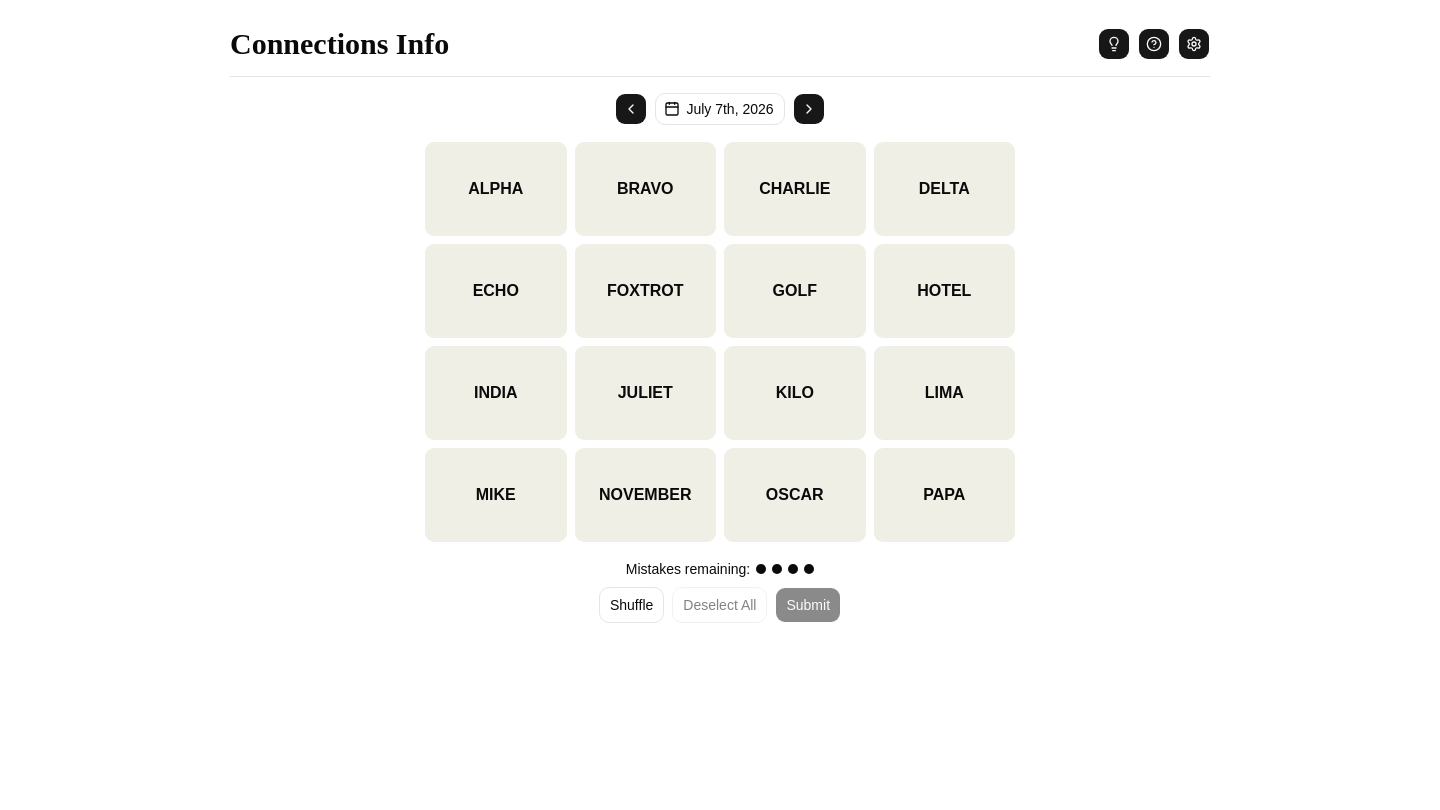
Test case: Connections app › persists source settings and updates word links
Expected: the text "ALPHA" is shown, x1=468 y1=179 x2=523 y2=199
Click the button "ALPHA".
click(496, 189)  # box x1=424 y1=141 x2=568 y2=237
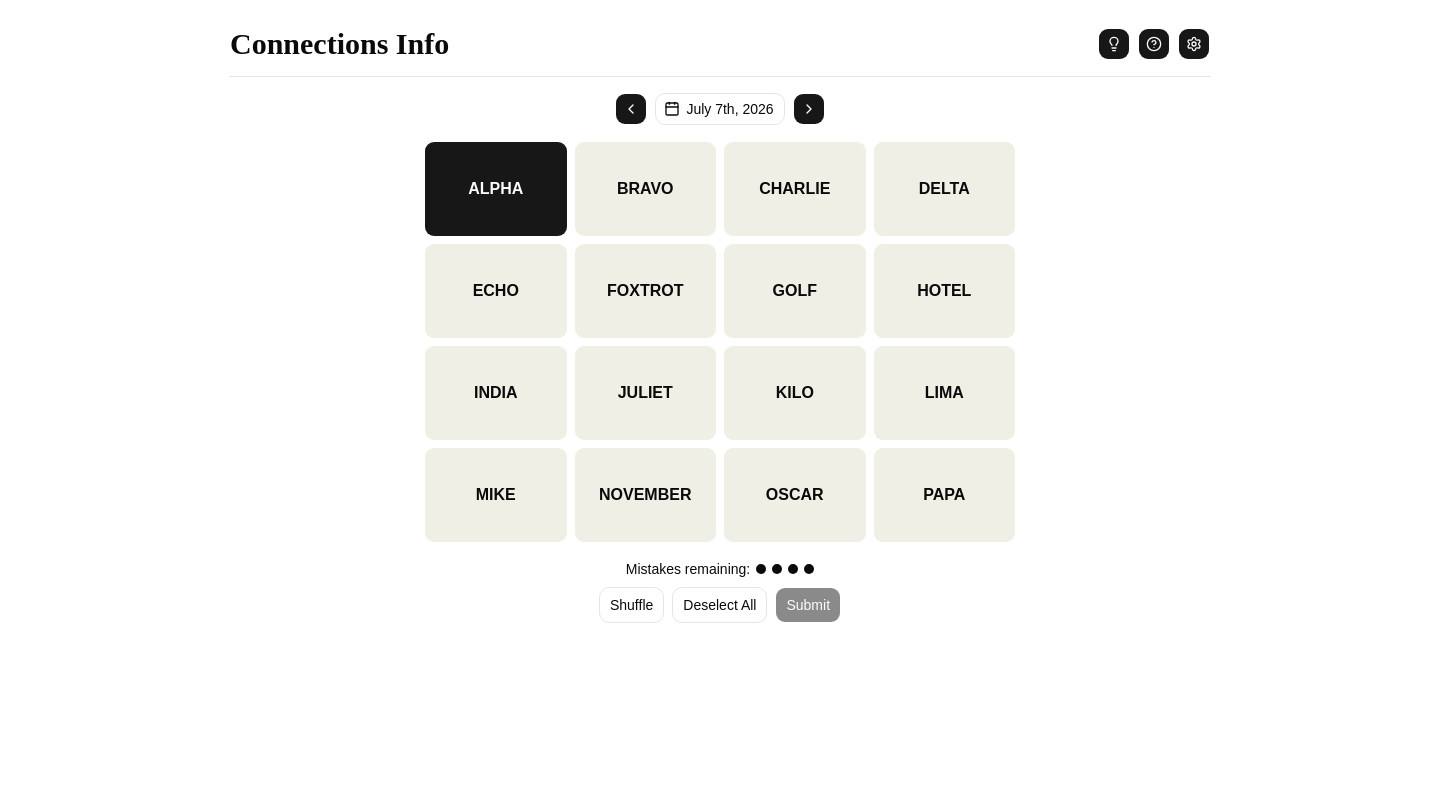
Click the button named "Open settings".
click(1194, 44)  # box x1=1178 y1=28 x2=1210 y2=60
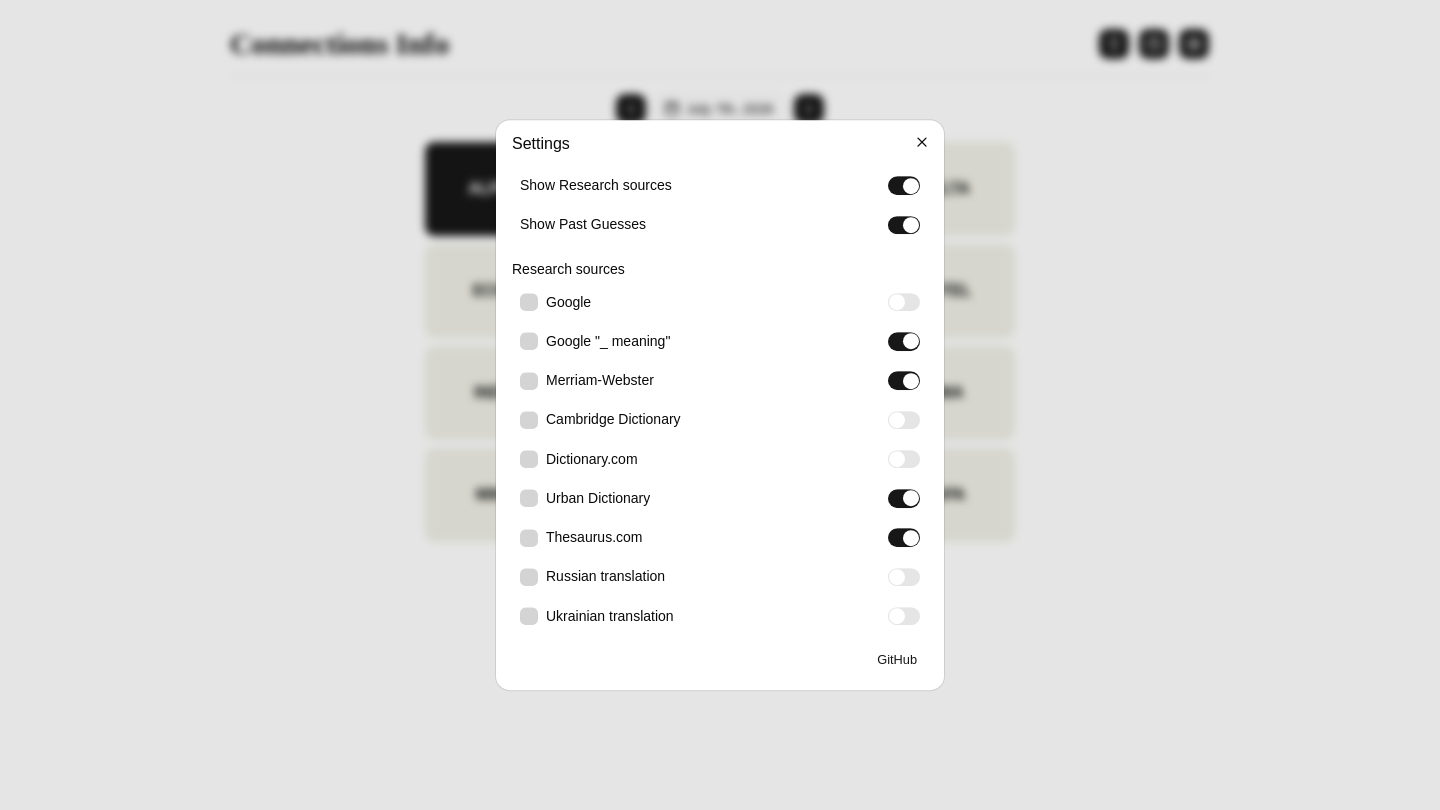
Click the switch named "Merriam-Webster" in the row of "Merriam-Webster".
click(904, 381)  # box x1=888 y1=372 x2=920 y2=390
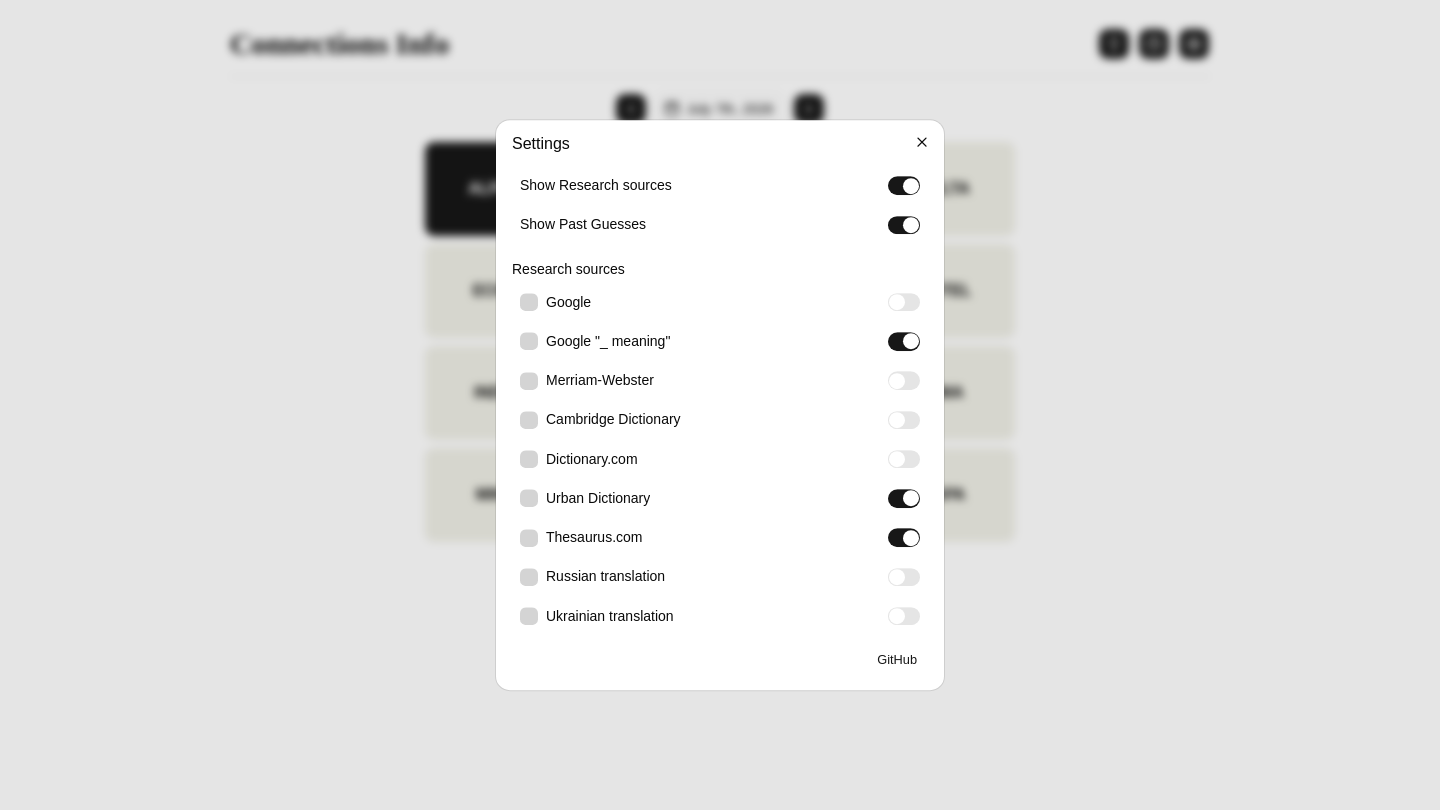
Click the button named "Close".
click(922, 142)  # box x1=908 y1=128 x2=936 y2=156
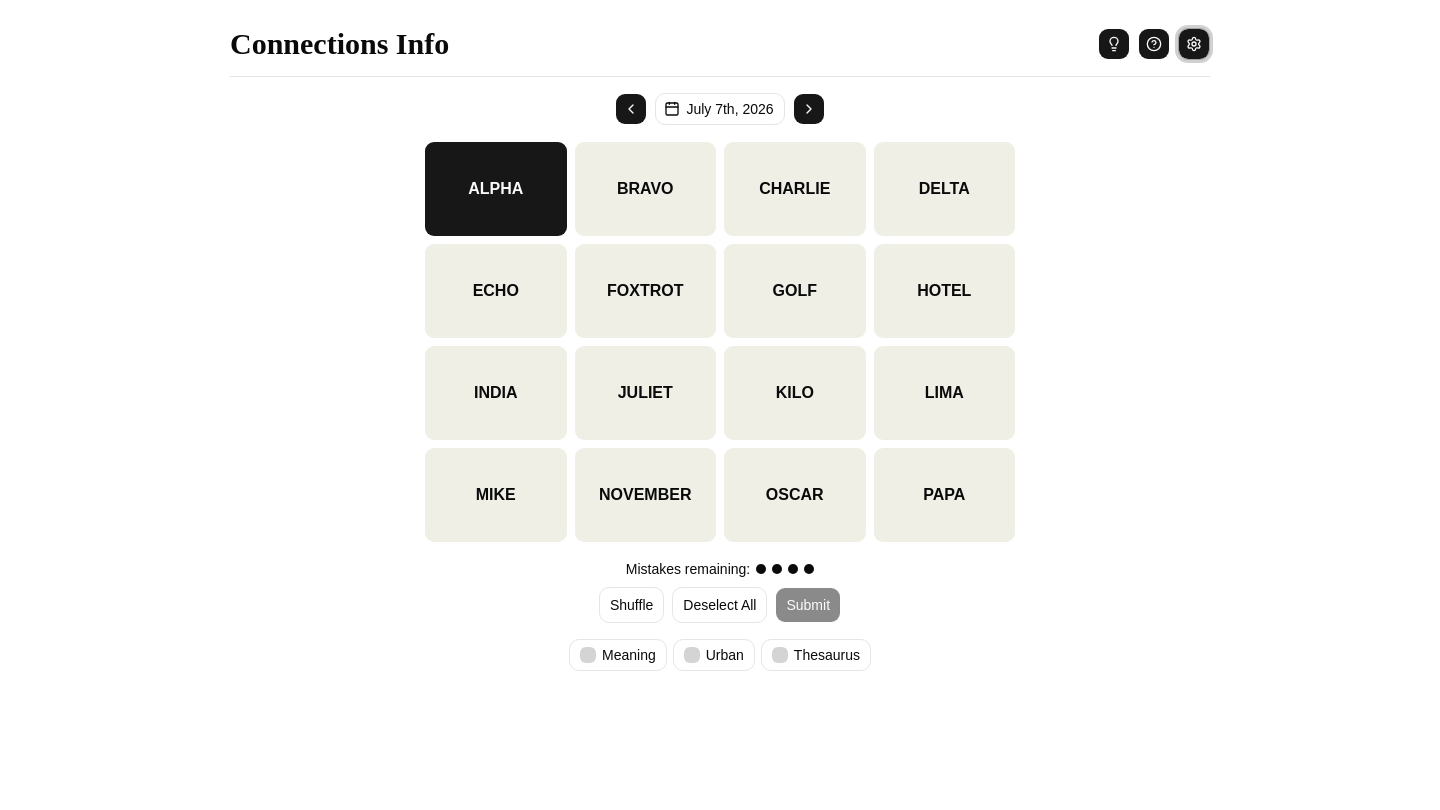
Expected: the dialog is gone
Expected: the text "Dictionary" is gone
